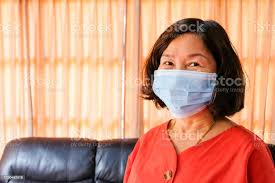mask: (149, 69, 221, 120)
social distancing: (126, 13, 250, 159)
